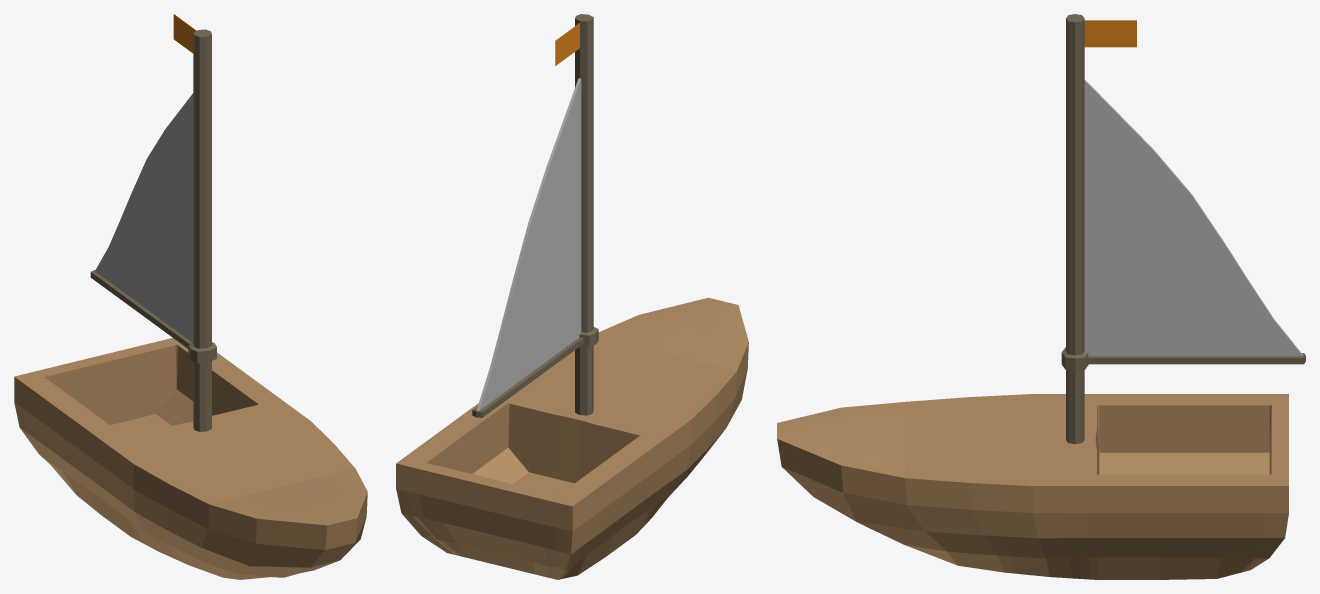
File: low poly boat.fbx
The picture shows the model from 3 angles, left to right: view 1: azimuth 30°, elevation 25°; view 2: azimuth 150°, elevation 25°; view 3: azimuth 270°, elevation 25°; orthographic projection. The views are drawn at different scales.
Visible parts, largest first — view 1: Boat, Boat sail, Boat flag; view 2: Boat, Boat sail, Boat flag; view 3: Boat, Boat sail, Boat flag.
Part boxes in pixels (left/top/right/bottom): Boat: left=14, top=29, right=367, bottom=579; Boat sail: left=95, top=93, right=193, bottom=342; Boat flag: left=173, top=14, right=196, bottom=53; Boat: left=396, top=14, right=748, bottom=579; Boat sail: left=477, top=78, right=581, bottom=410; Boat flag: left=555, top=23, right=579, bottom=65; Boat: left=777, top=14, right=1305, bottom=579; Boat sail: left=1084, top=79, right=1302, bottom=355; Boat flag: left=1084, top=20, right=1136, bottom=47.
Bounding box in the file's own units: 3.67 × 9.83 × 8.9.
